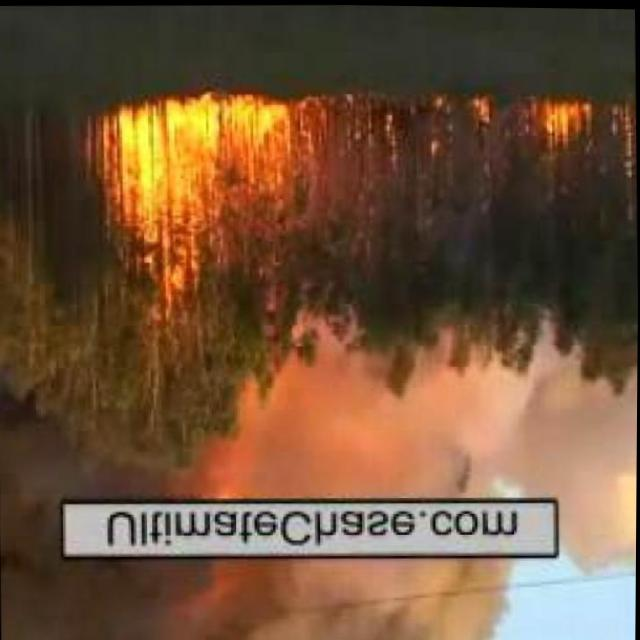Fire: (99, 86, 298, 257), (533, 96, 594, 147), (312, 95, 363, 154), (622, 102, 635, 171), (466, 97, 487, 120)
